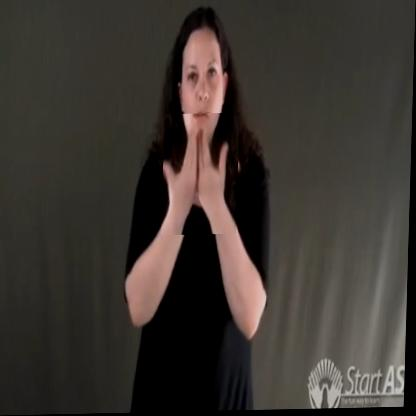HowAreYou: (162, 114, 240, 236)
